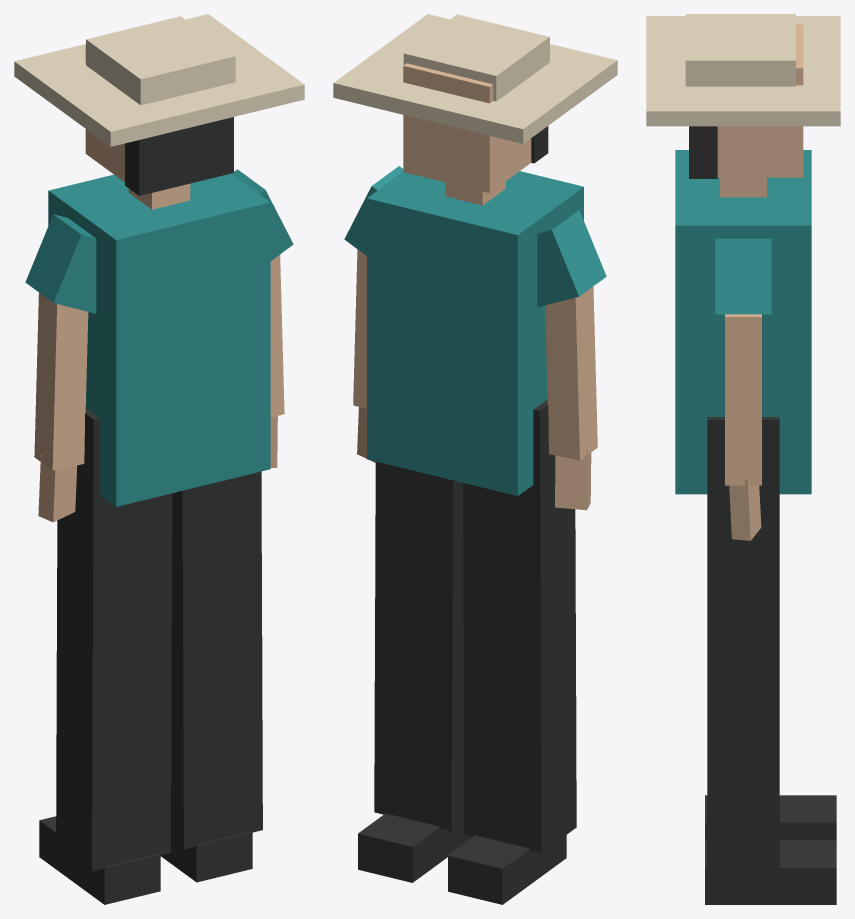
Rendered from pedestrian_08_far.glb.
3 renders of one model, left to right at view 1: azimuth 30°, elevation 25°; view 2: azimuth 150°, elevation 25°; view 3: azimuth 270°, elevation 25°, orthographic. The views are drawn at different scales.
Visible parts, largest first — view 1: pedestrian_08 crowd_trousers.001, pedestrian_08 crowd_shirt.001, pedestrian_08 crowd_accessory.001, pedestrian_08 crowd_skin.001, pedestrian_08 crowd_rubber.001; view 2: pedestrian_08 crowd_trousers.001, pedestrian_08 crowd_shirt.001, pedestrian_08 crowd_skin.001, pedestrian_08 crowd_accessory.001, pedestrian_08 crowd_rubber.001; view 3: pedestrian_08 crowd_shirt.001, pedestrian_08 crowd_trousers.001, pedestrian_08 crowd_accessory.001, pedestrian_08 crowd_skin.001, pedestrian_08 crowd_rubber.001.
Part boxes in pixels (x1,y1,x2,y2): pedestrian_08 crowd_trousers.001: (56,408,262,871); pedestrian_08 crowd_shirt.001: (25,169,293,506); pedestrian_08 crowd_accessory.001: (14,14,304,146); pedestrian_08 crowd_skin.001: (34,45,284,522); pedestrian_08 crowd_rubber.001: (39,117,252,904); pedestrian_08 crowd_trousers.001: (374,399,576,852); pedestrian_08 crowd_shirt.001: (344,166,606,495); pedestrian_08 crowd_skin.001: (353,63,597,510); pedestrian_08 crowd_accessory.001: (333,14,617,143); pedestrian_08 crowd_rubber.001: (358,126,566,904); pedestrian_08 crowd_shirt.001: (675,150,811,494); pedestrian_08 crowd_trousers.001: (707,417,779,875); pedestrian_08 crowd_accessory.001: (646,14,840,126); pedestrian_08 crowd_skin.001: (717,24,803,540); pedestrian_08 crowd_rubber.001: (689,126,836,904).
Bounding box in the file's own units: 0.5004 × 1.64 × 0.3478.
